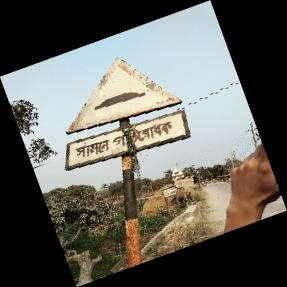Speed-breaker: (64, 57, 188, 170)
